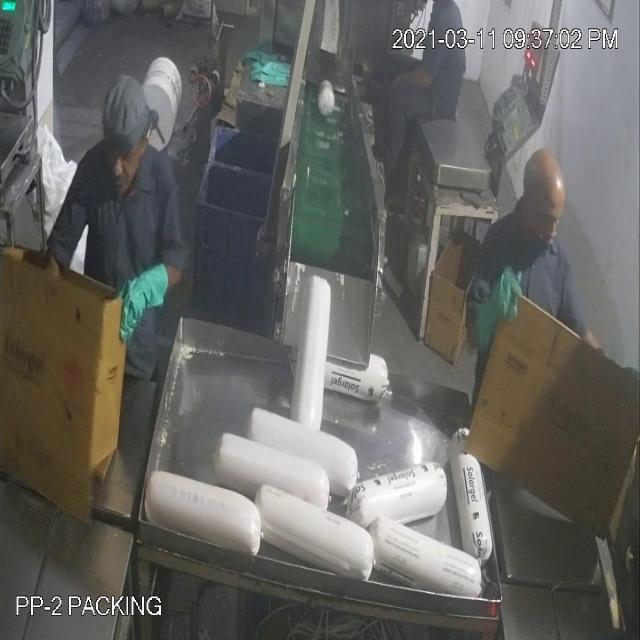Gloves: (469, 262, 523, 369)
